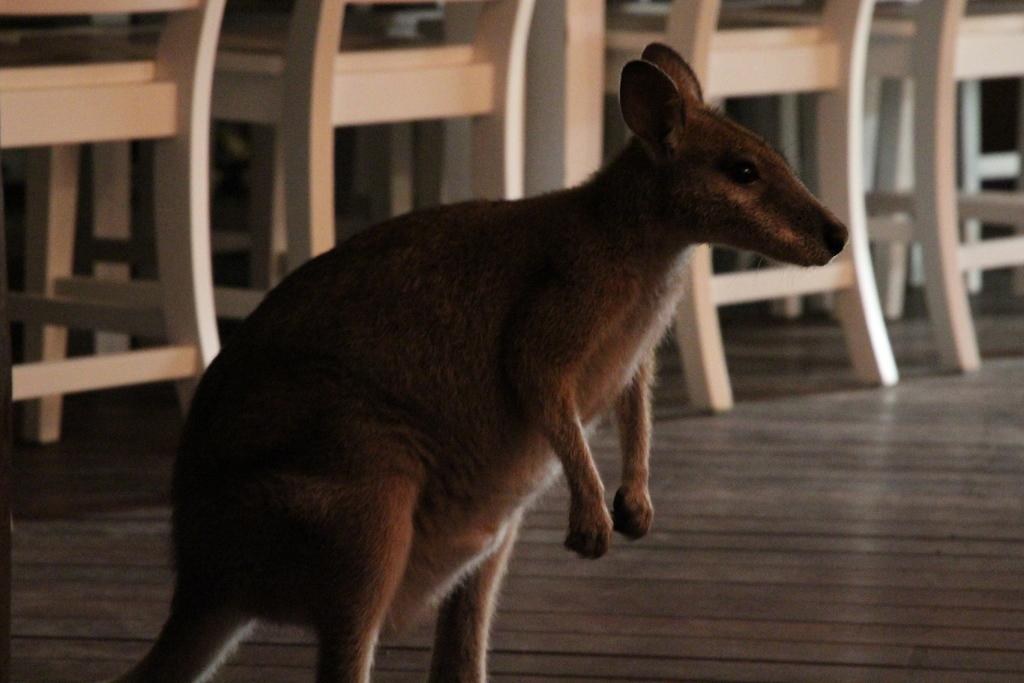kangaroo: (112, 41, 854, 682)
